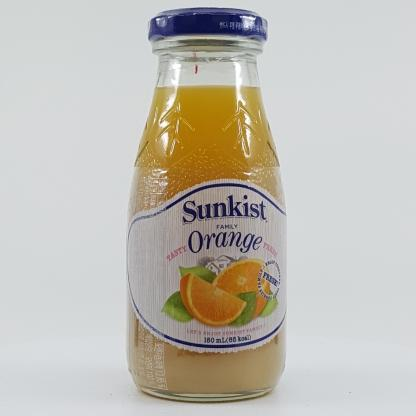----------180ML: (126, 7, 287, 402)
